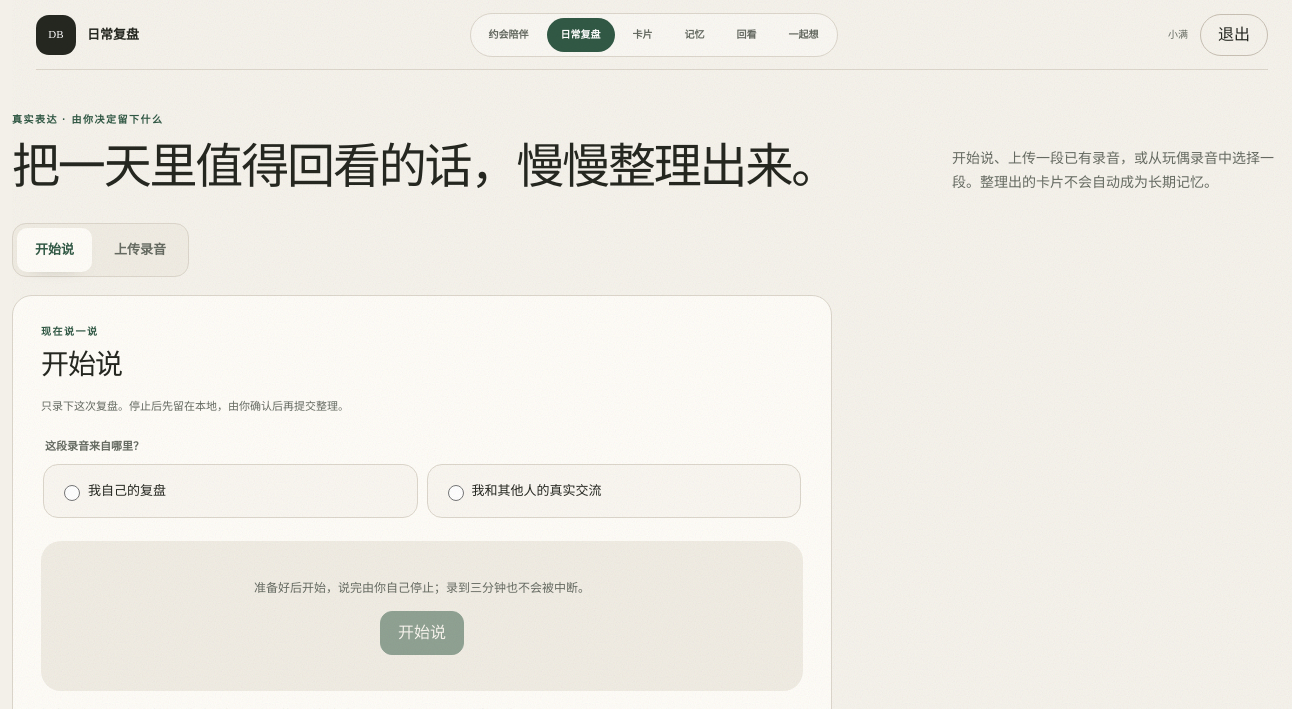
Test: DailyReflectionShellContent › shows a safe recording error for NotAllowedError without weakening upload
Click the radio button labelled "我自己的复盘". click: (72, 493)
box: [64,485,80,501]
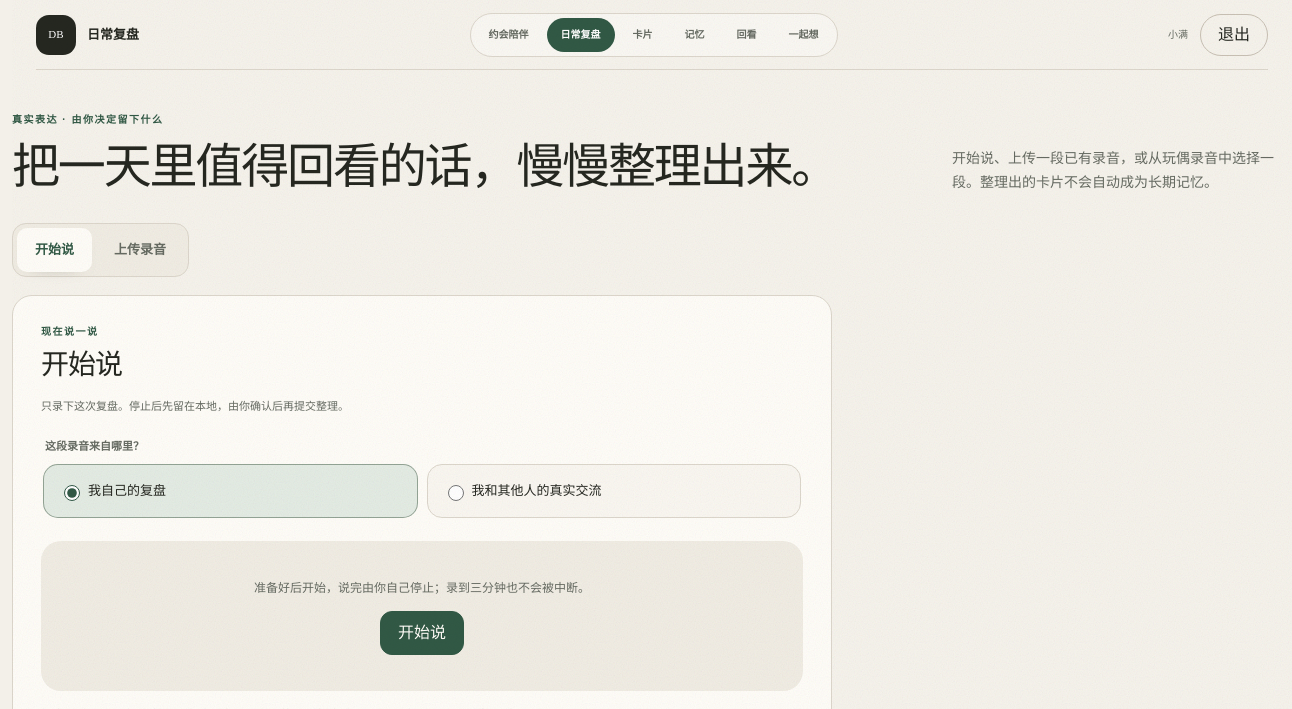
Click the button "开始说". click: (422, 633)
box: [380,611,464,655]
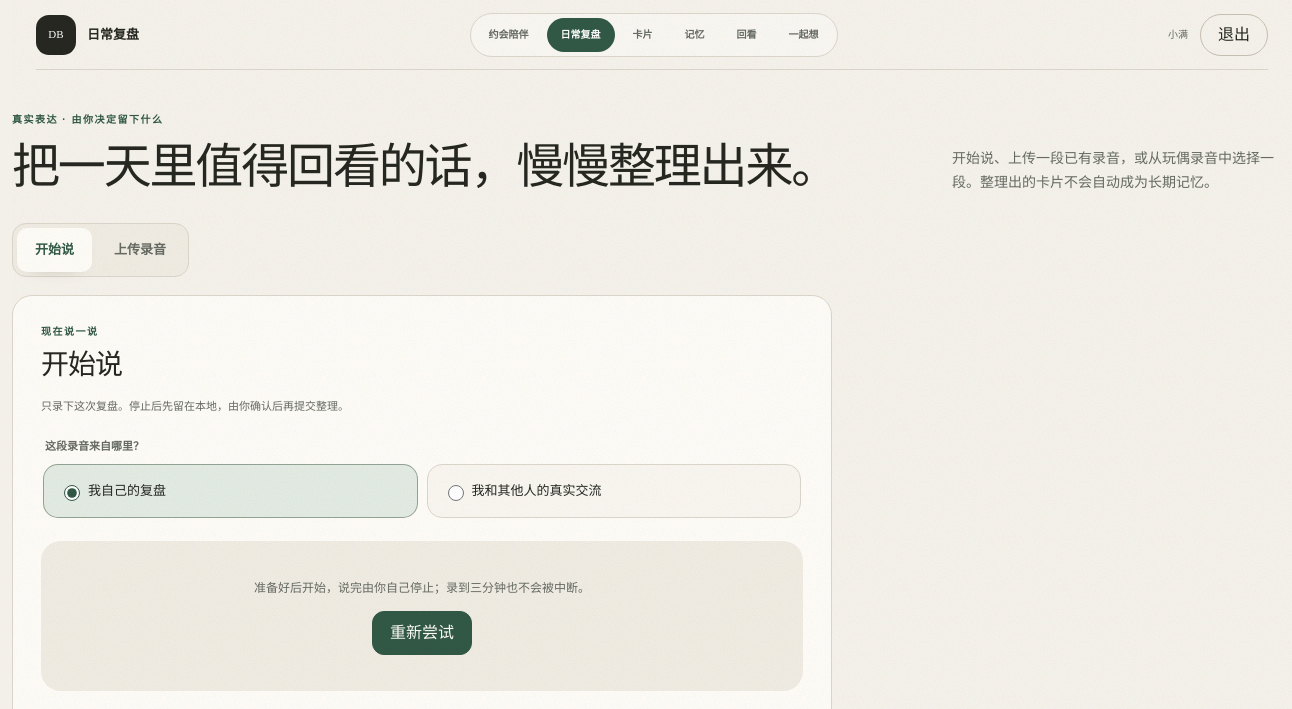
Result: the button "重新尝试" is enabled at [372,611,472,655]
Click the tab "上传录音". click: (140, 250)
box: [96,228,184,272]
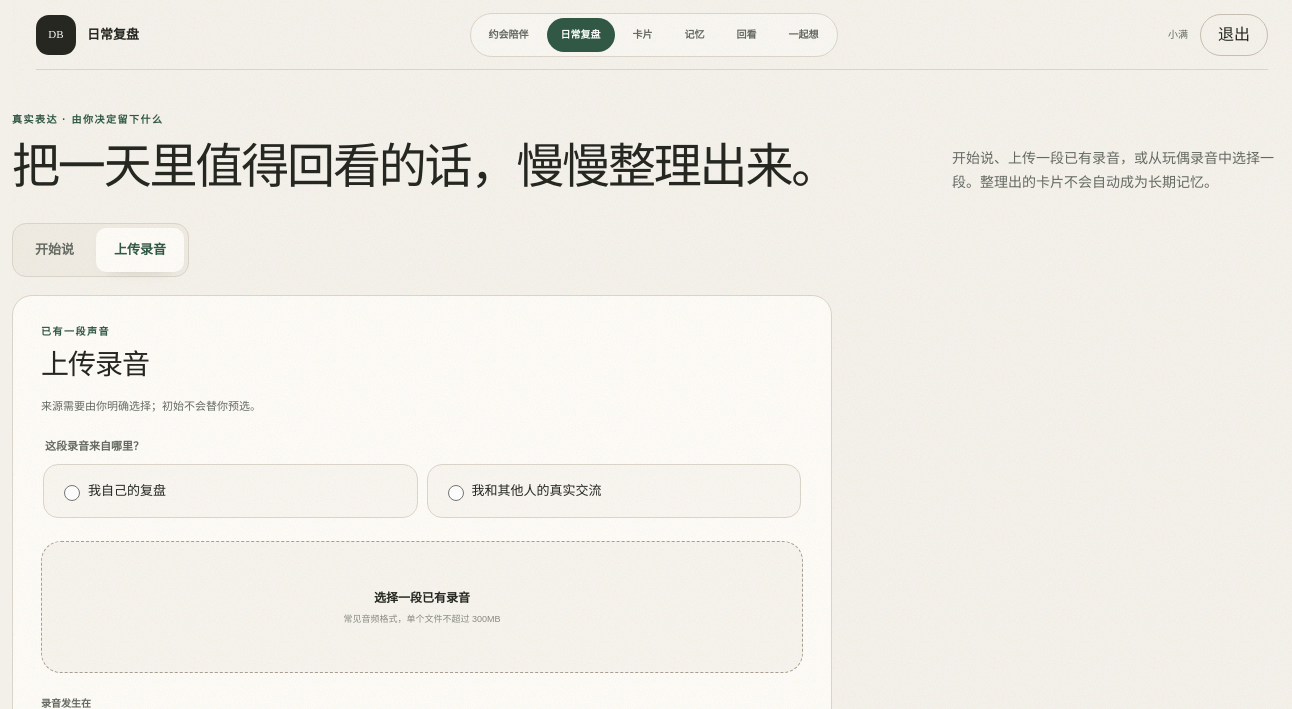
Click the tab "开始说". click: (54, 250)
box: [17,228,92,272]
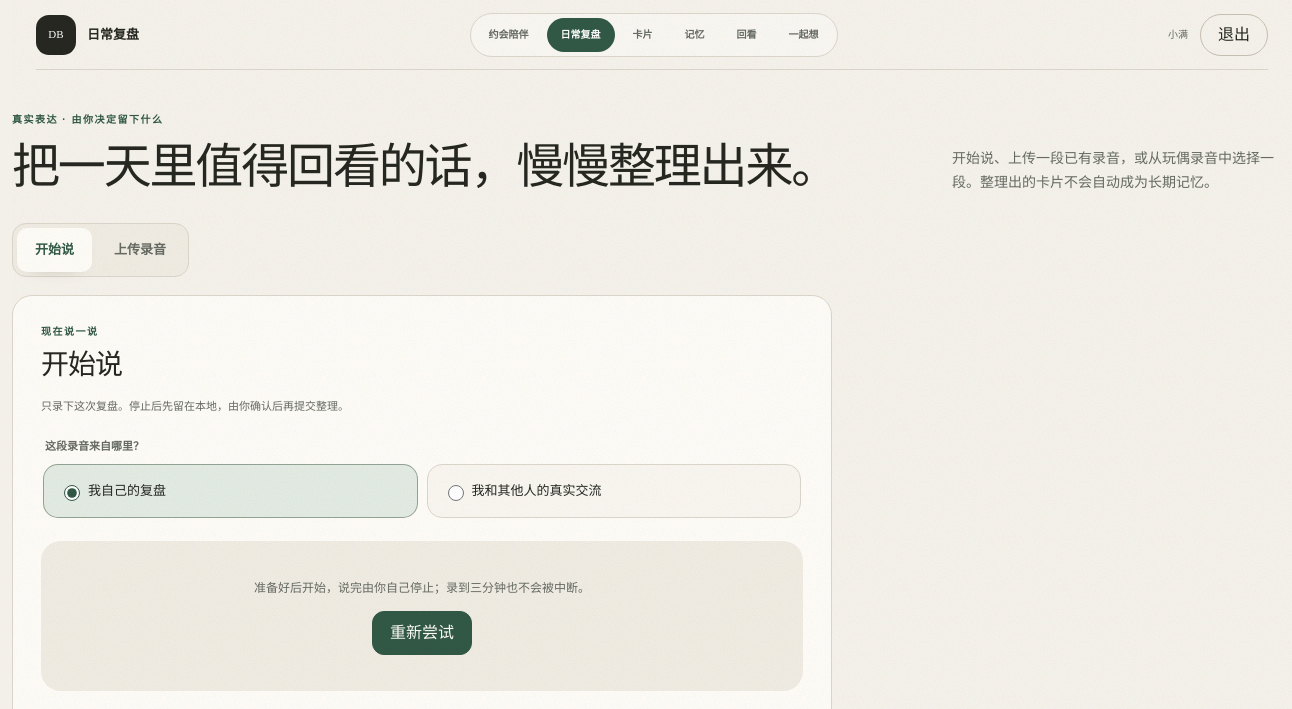
Result: the button "重新尝试" is enabled at [372,611,472,655]
